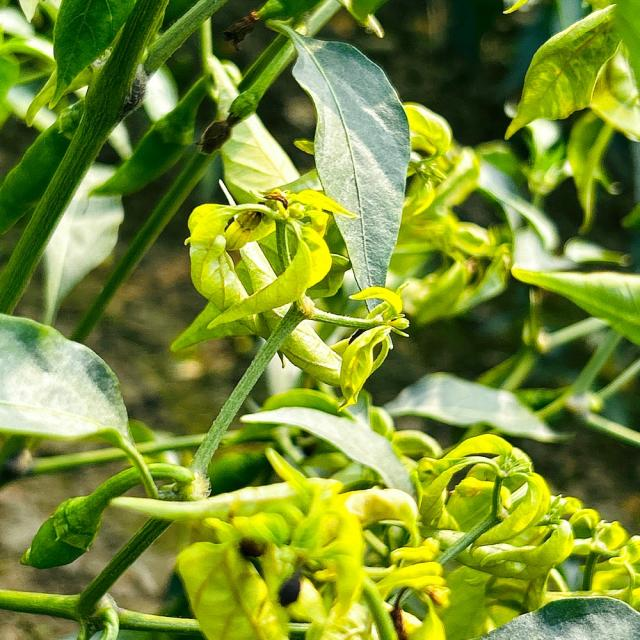Chilli_Leaf_Curl: (1, 1, 638, 638), (171, 178, 409, 406), (262, 18, 412, 314), (175, 447, 396, 638), (182, 184, 356, 331), (502, 1, 634, 142), (0, 311, 132, 445), (238, 403, 416, 496), (195, 53, 301, 204), (380, 370, 568, 443), (510, 264, 639, 346)
